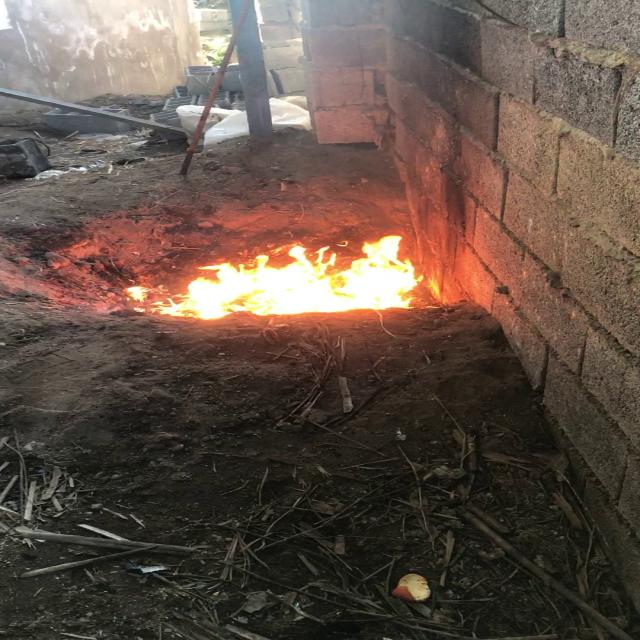fire: (154, 230, 427, 317)
